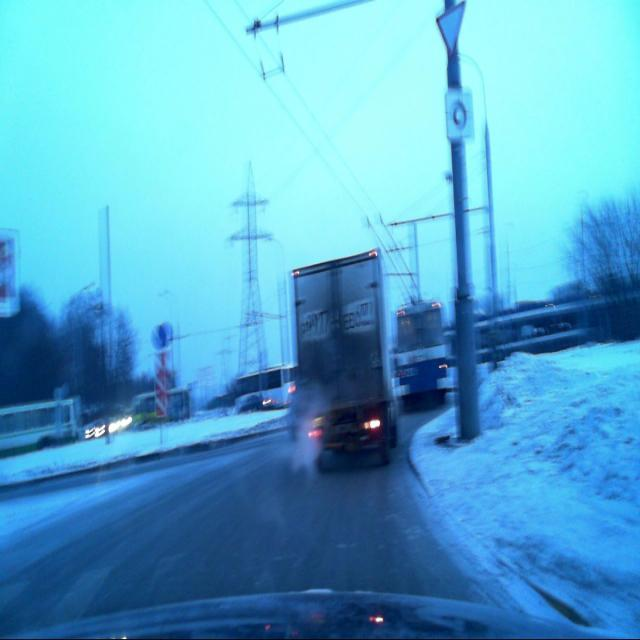object: (446, 92, 475, 140)
road sign: (437, 0, 466, 58)
